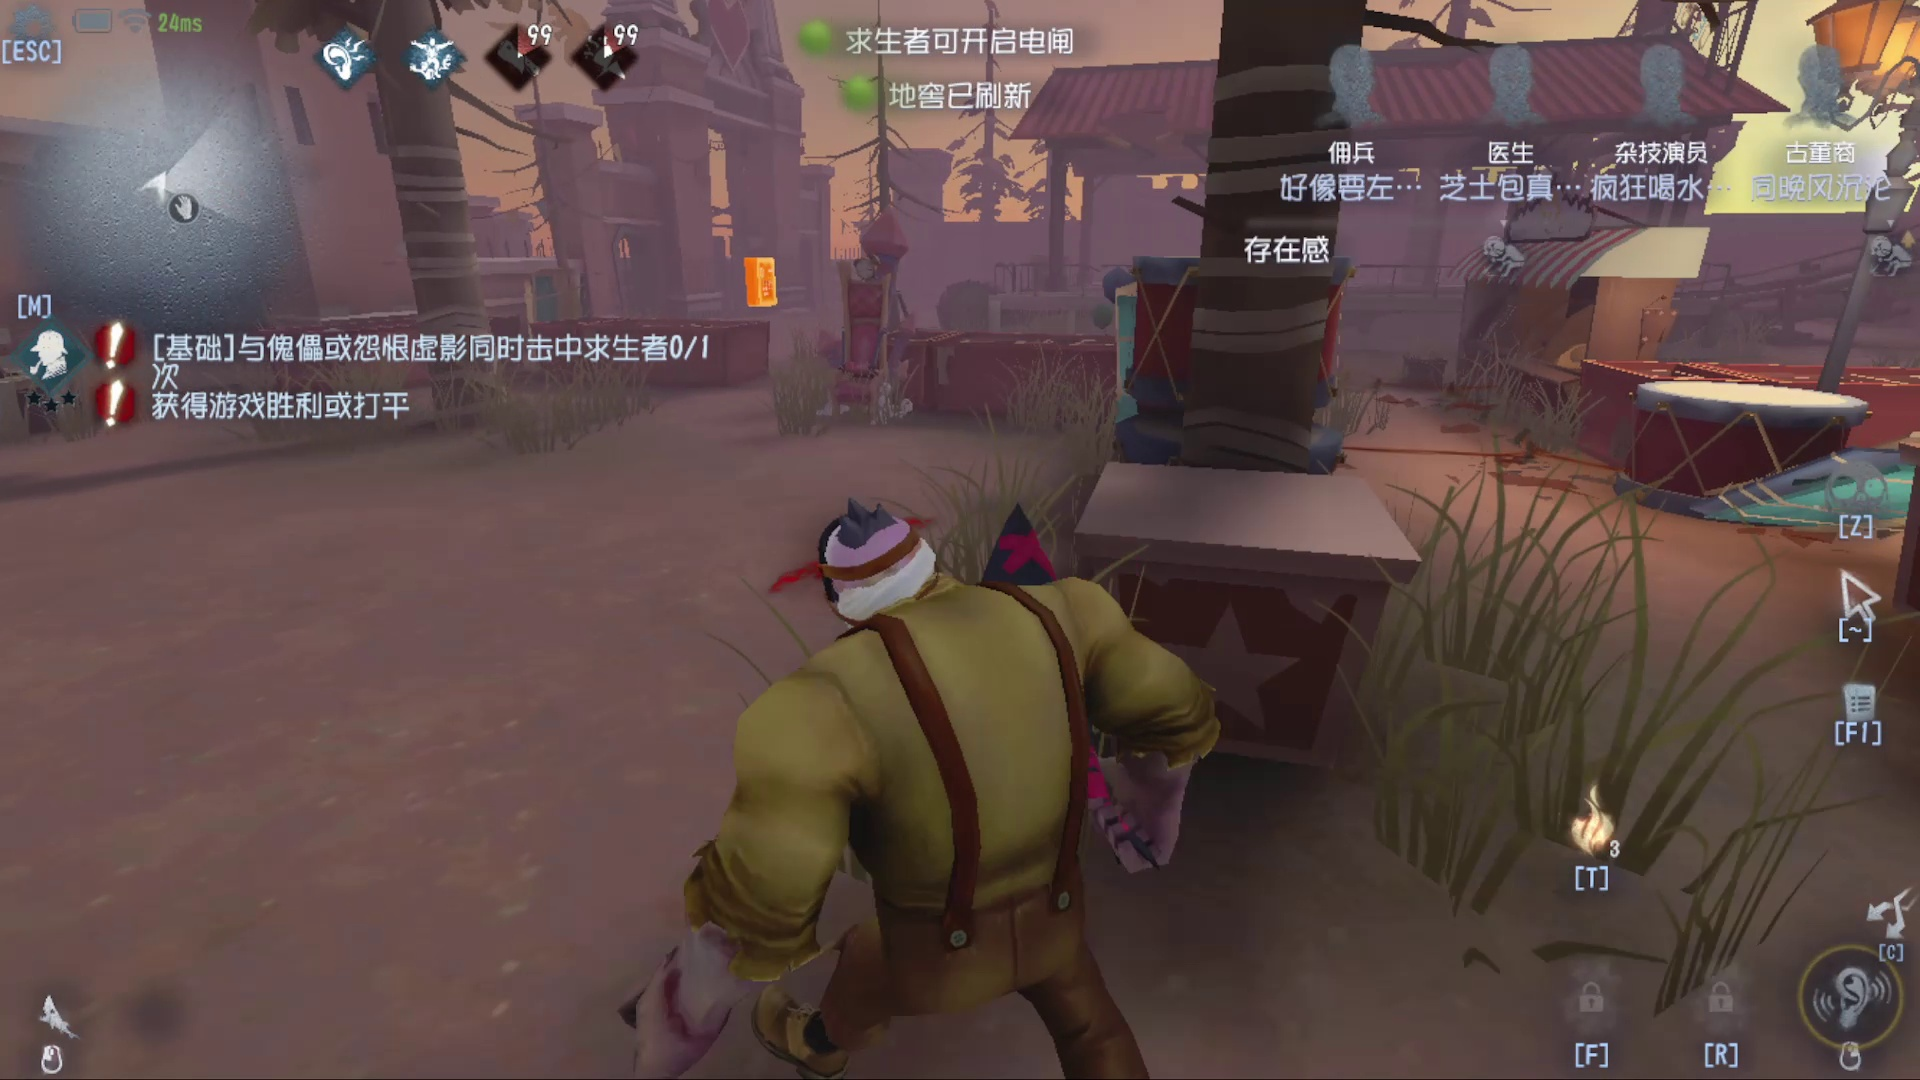技能: (1557, 769, 1629, 911)
木板: (1677, 413, 1903, 570), (1093, 264, 1207, 459), (518, 266, 618, 359)
狂欢之椅: (827, 206, 934, 422)
